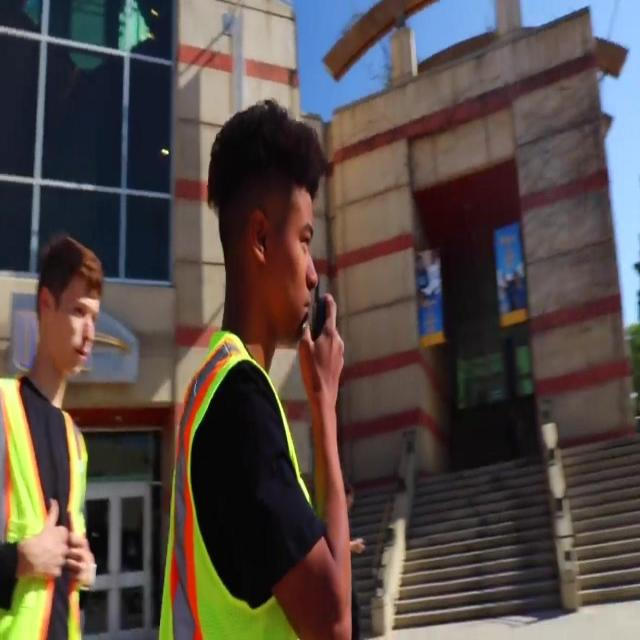Vest: (159, 327, 313, 638), (0, 375, 88, 638)
